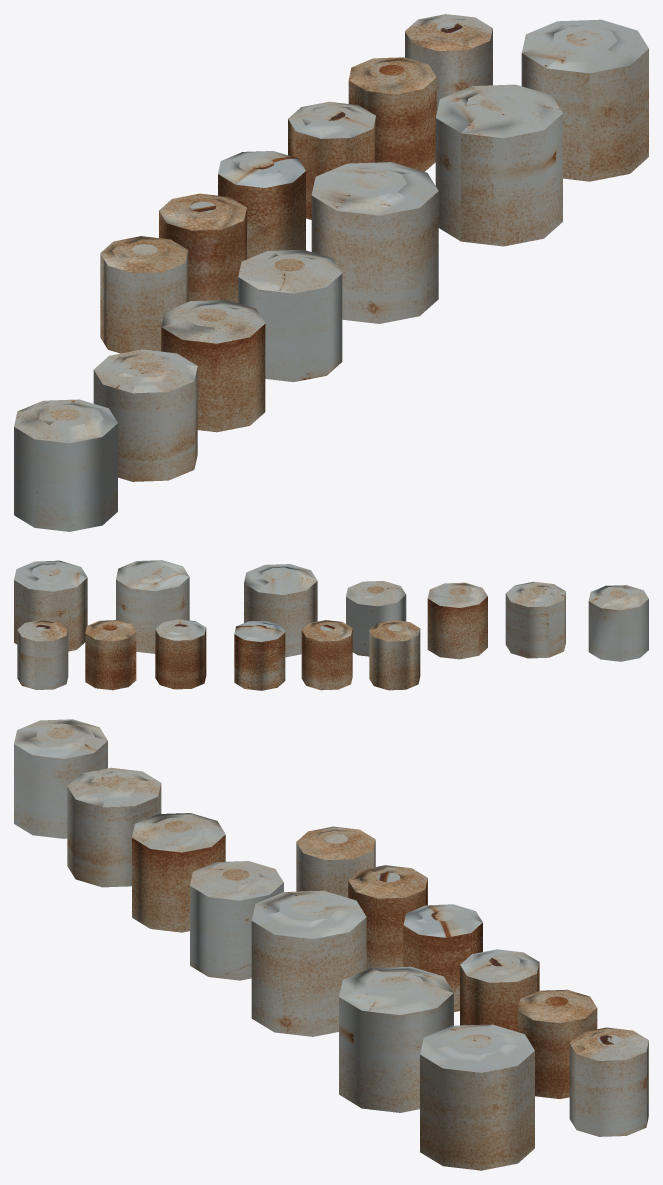
The model's file is youguan_01_01.fbx.
3 views of the same model, one above another, from view 1: azimuth 30°, elevation 25°; view 2: azimuth 150°, elevation 25°; view 3: azimuth 270°, elevation 25° (orthographic). The views are drawn at different scales.
Parts seen in each view (by area): view 1: Youguan_01_01; view 2: Youguan_01_01; view 3: Youguan_01_01.
Part boxes in pixels (x1=…): Youguan_01_01: x1=14, y1=14, x2=648, y2=531; Youguan_01_01: x1=14, y1=560, x2=648, y2=690; Youguan_01_01: x1=14, y1=719, x2=648, y2=1170.
Bounding box in the file's own units: 7041 × 945 × 5045.
